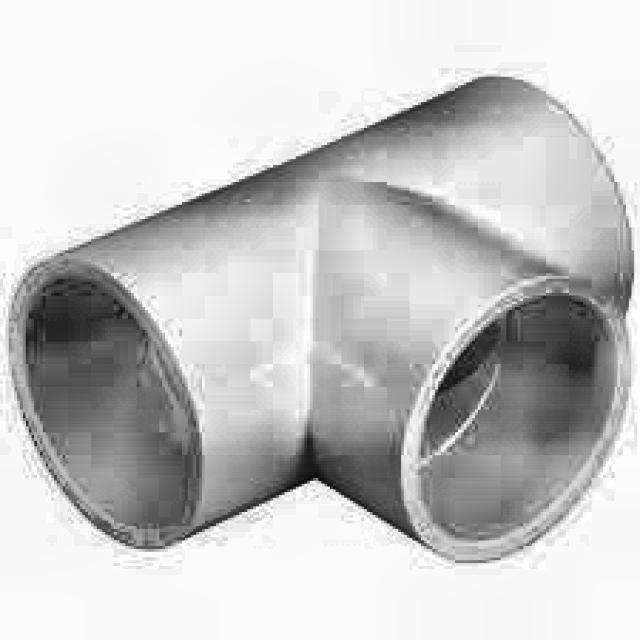EQUALTEE: (3, 71, 640, 569)
